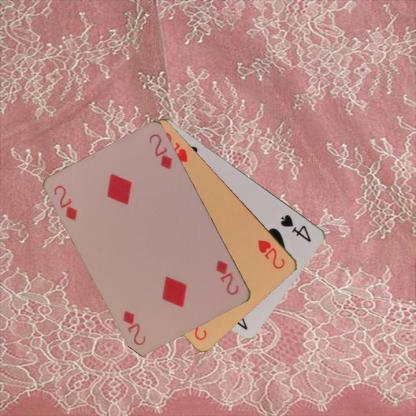2d: (50, 182, 79, 223), (213, 257, 240, 297)
2h: (256, 237, 286, 270)
4s: (278, 211, 313, 244)
